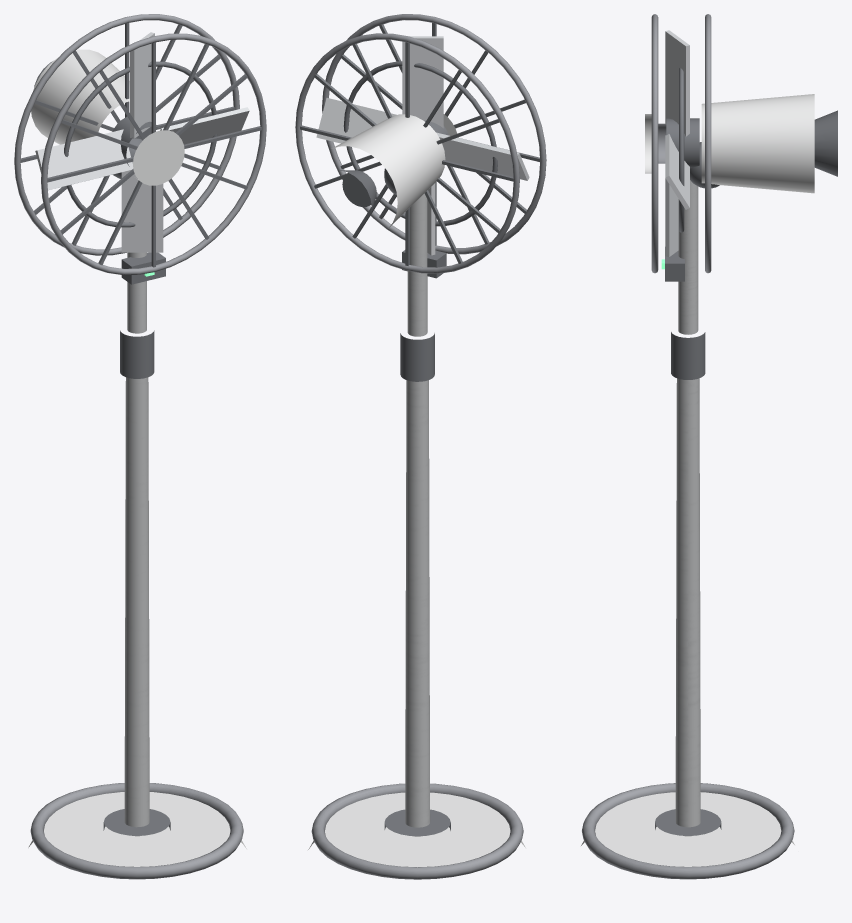
Rendered from standing-fan.glb.
3 views of the same model, side by side, from view 1: azimuth 30°, elevation 25°; view 2: azimuth 150°, elevation 25°; view 3: azimuth 270°, elevation 25° (orthographic).
Visible parts, largest first — view 1: pole, base, blade (×4), base-ring, guard-front, motor-housing, guard-rear, guard-cap, guard-mid, collar, upper-pole, base-cap (+1 smaller); view 2: pole, base, blade (×4), base-ring, motor-housing, guard-rear, guard-front, upper-pole, guard-mid, collar, base-cap, motor-rear; view 3: pole, motor-housing, base, base-ring, blade (×3), upper-pole, guard-front, guard-rear, collar, motor-rear, base-cap, hub (+2 smaller).
Boxes of the visible parts, <box> form: pole: <box>124,377,149,836</box>; base: <box>28,792,246,866</box>; blade (×4): <box>35,32,249,252</box>; base-ring: <box>30,783,243,879</box>; guard-front: <box>41,33,266,274</box>; motor-housing: <box>31,49,129,144</box>; guard-rear: <box>14,14,239,255</box>; guard-cap: <box>133,130,184,185</box>; guard-mid: <box>64,61,217,227</box>; collar: <box>120,330,154,378</box>; upper-pole: <box>127,252,146,333</box>; base-cap: <box>103,809,170,835</box>; pole: <box>405,380,430,836</box>; base: <box>308,792,525,867</box>; blade (×4): <box>316,36,529,255</box>; base-ring: <box>311,783,523,879</box>; motor-housing: <box>331,114,445,229</box>; guard-rear: <box>295,33,519,273</box>; guard-front: <box>322,14,546,254</box>; upper-pole: <box>407,193,427,336</box>; guard-mid: <box>343,61,497,226</box>; collar: <box>400,333,434,381</box>; base-cap: <box>384,809,450,836</box>; motor-rear: <box>339,170,376,213</box>; pole: <box>675,378,700,836</box>; motor-housing: <box>701,94,814,193</box>; base: <box>581,792,794,866</box>; base-ring: <box>582,783,794,879</box>; blade (×3): <box>665,30,689,256</box>; upper-pole: <box>678,180,698,334</box>; guard-front: <box>651,14,658,273</box>; guard-rear: <box>705,14,711,273</box>; collar: <box>671,332,705,379</box>; motor-rear: <box>814,110,837,176</box>; base-cap: <box>655,809,721,835</box>; hub: <box>666,118,699,168</box>.
Size of the model in its own units: 0.39 by 1.38 by 0.395.
6 materials, 2 textured.
